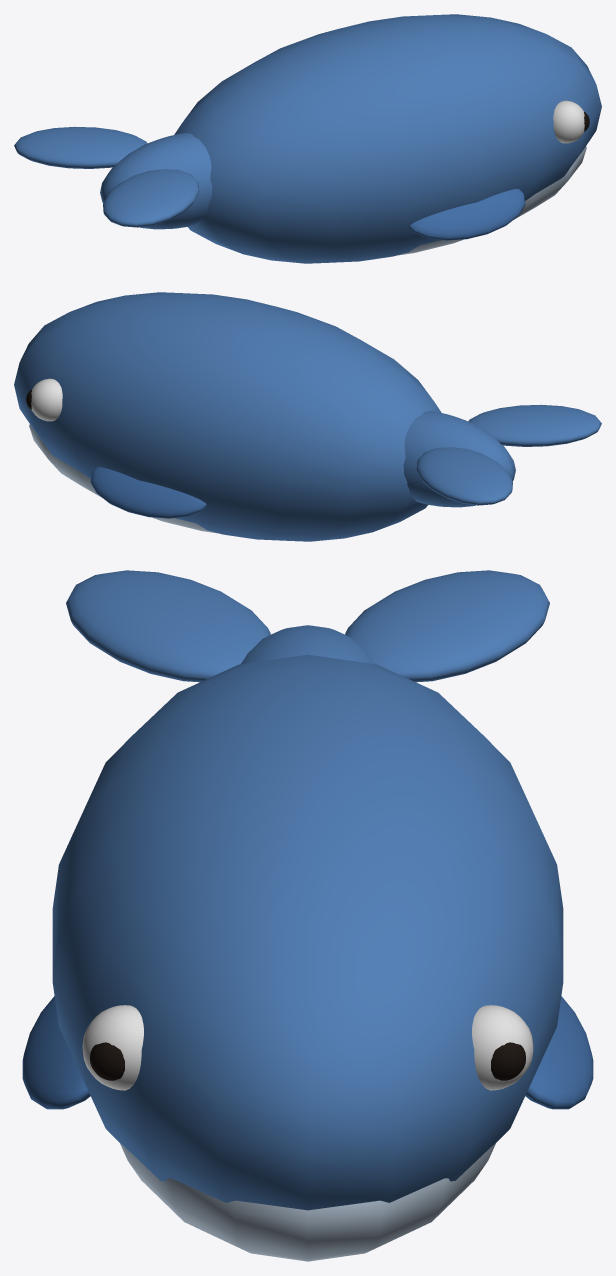
The model's file is whale.glb.
The picture shows the model from 3 angles, top to bottom: view 1: azimuth 30°, elevation 25°; view 2: azimuth 150°, elevation 25°; view 3: azimuth 270°, elevation 25°; orthographic projection. The views are drawn at different scales.
Parts seen in each view (by area): view 1: part_000; view 2: part_000; view 3: part_000.
Part boxes in pixels (x1,y1,x2,y2): part_000: [14, 14, 601, 263]; part_000: [14, 292, 601, 541]; part_000: [22, 570, 593, 1261].
Bounding box in the file's own units: 4 × 1.5 × 1.87.
